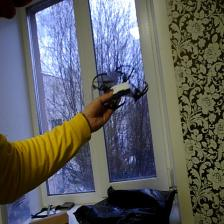drone: (90, 61, 154, 113)
